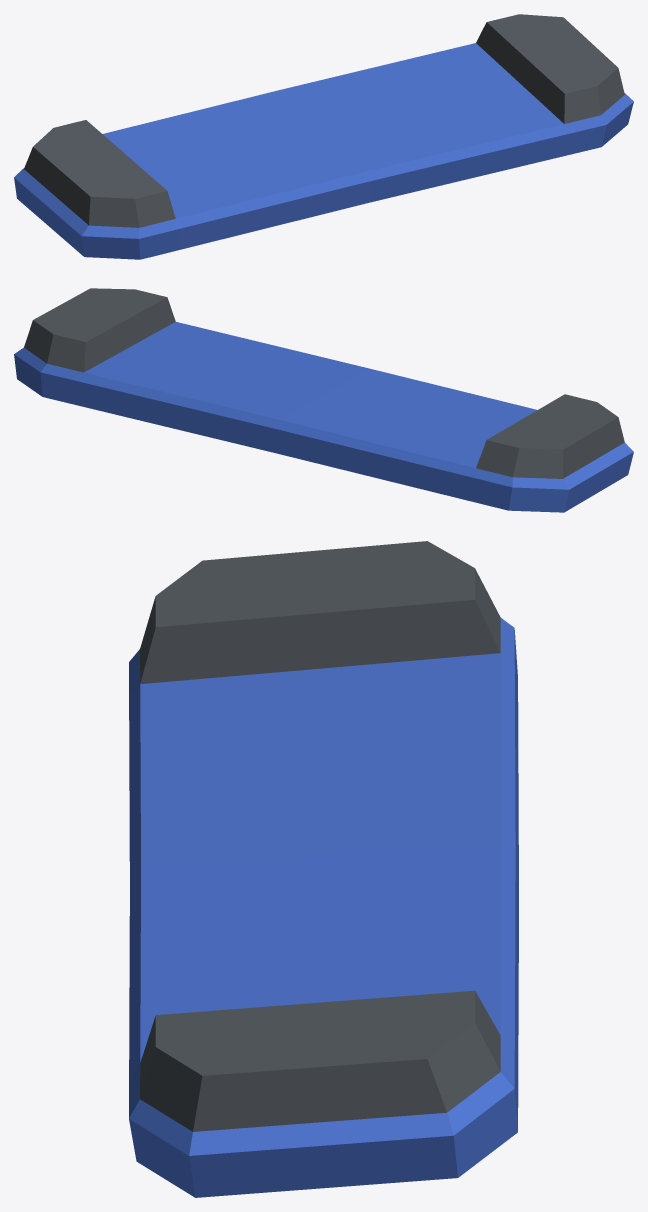
Rendered from Mothership_01_Detail_3_Blue.fbx.
3 views of the same model, one above another, from view 1: azimuth 30°, elevation 25°; view 2: azimuth 150°, elevation 25°; view 3: azimuth 270°, elevation 25° (orthographic). The views are drawn at different scales.
Parts seen in each view (by area): view 1: Mothership_01_Detail_3_Blue; view 2: Mothership_01_Detail_3_Blue; view 3: Mothership_01_Detail_3_Blue.
Part boxes in pixels (x1=…): Mothership_01_Detail_3_Blue: x1=14, y1=14, x2=633, y2=259; Mothership_01_Detail_3_Blue: x1=14, y1=288, x2=633, y2=512; Mothership_01_Detail_3_Blue: x1=129, y1=541, x2=518, y2=1197.
Size of the model in its own units: 1299 by 158 by 395.
Materials: 1 (1 with a texture image).
